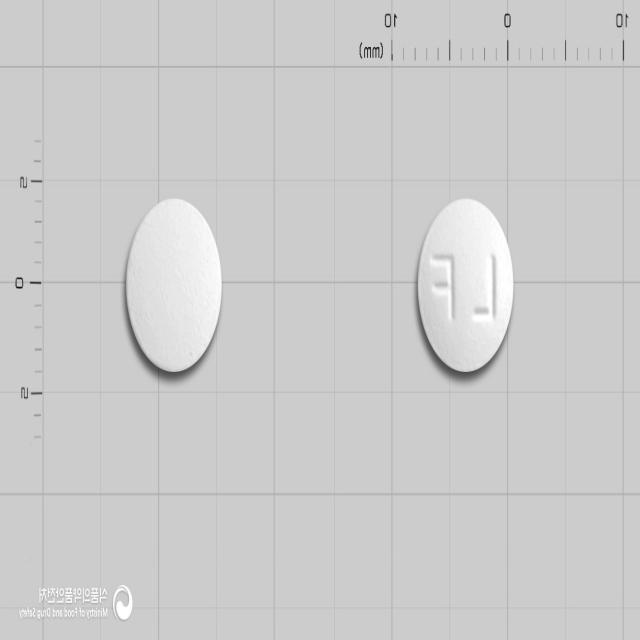Clacid - 250mg: (417, 194, 514, 374), (125, 197, 222, 374)
